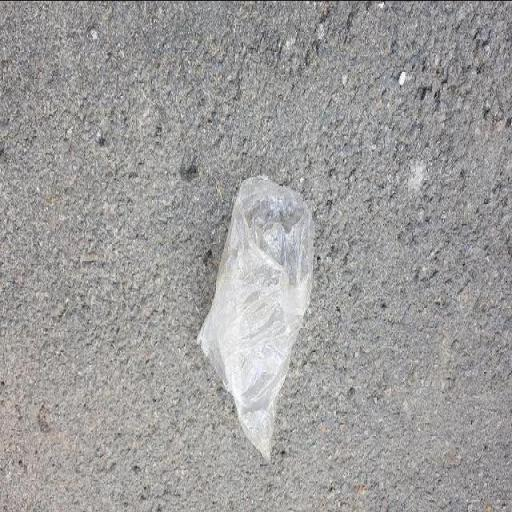plastic-bag: (194, 172, 321, 458)
